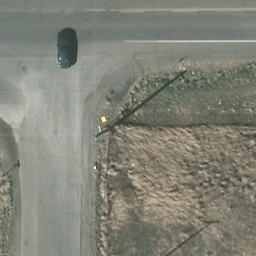car: (55, 29, 76, 69)
